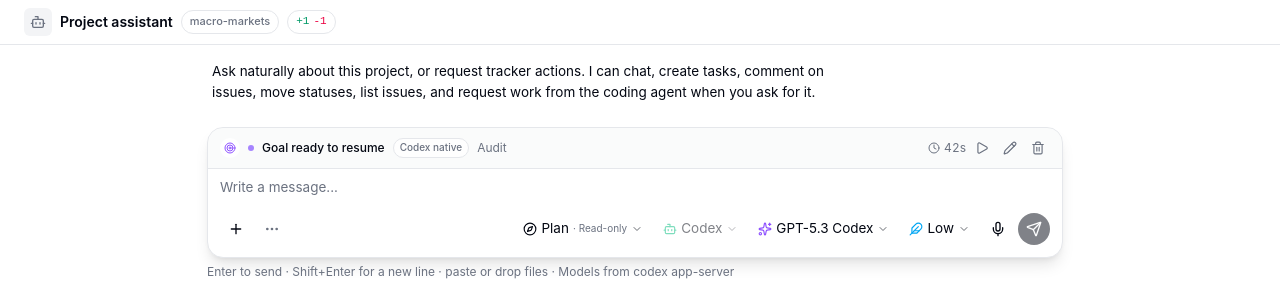
Test: ProjectAssistantPanel › stops the turn and retries goal_clear when remove is blocked as busy
Check: the element "Goal" is shown, box [208,128,1062,169]
What coordinates should you click on to do the following:
click the button named "Remove goal"
I would click on:
 (1038, 148)
Its box is [1026,136,1050,160].
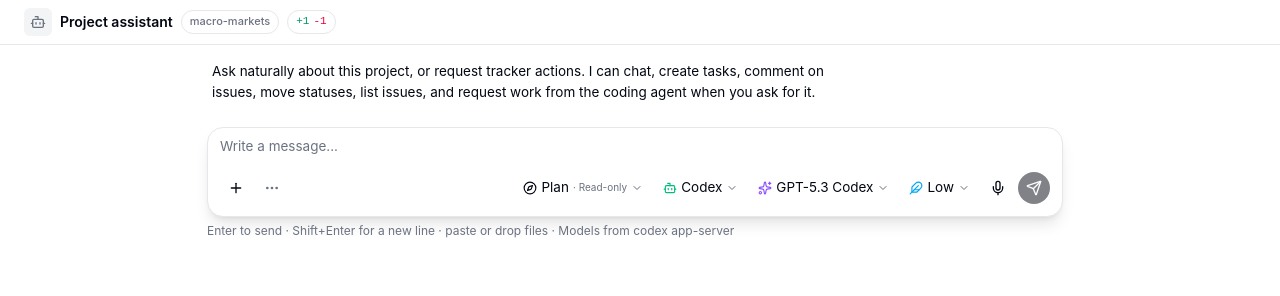
Check: the text "Goal" is gone
